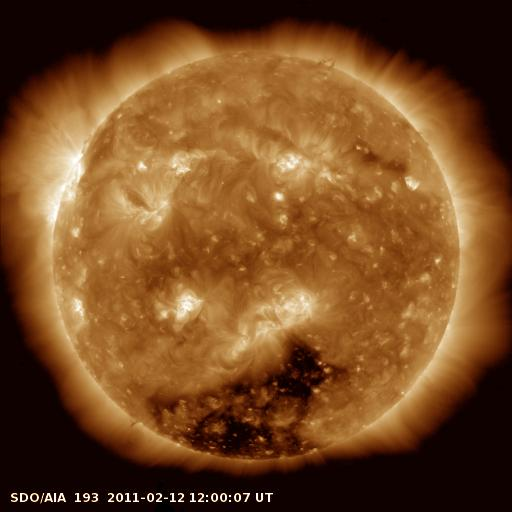coronal_hole: (152, 335, 350, 462)
